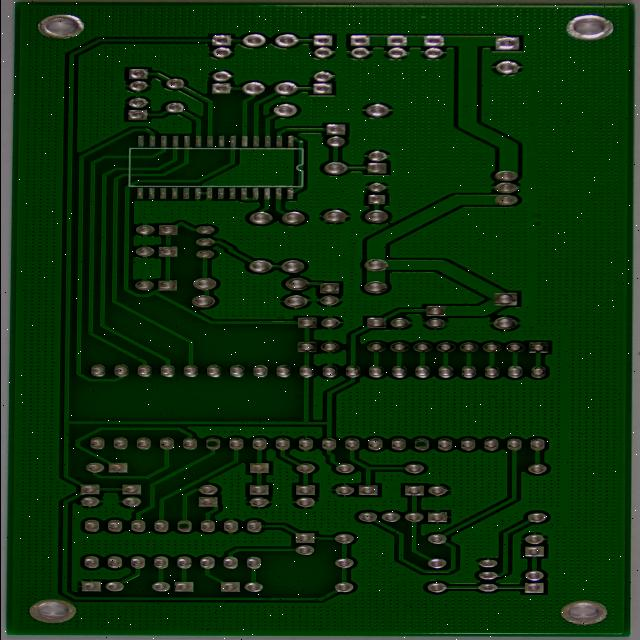missing_hole: (173, 445, 196, 460), (394, 446, 420, 459), (142, 530, 166, 542)
